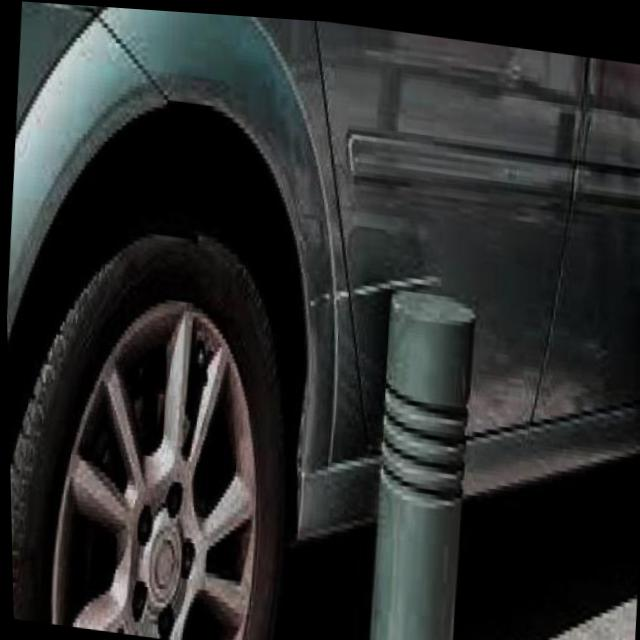Car-Damage: (304, 237, 451, 344)
